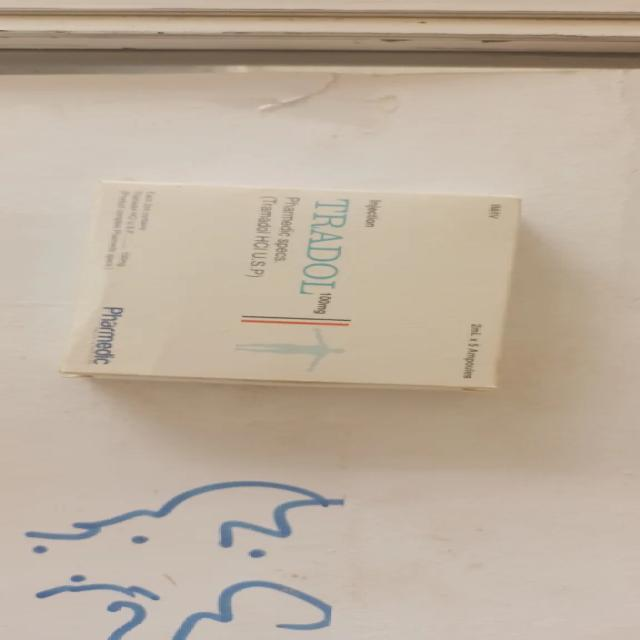drug-name: (296, 195, 352, 299)
